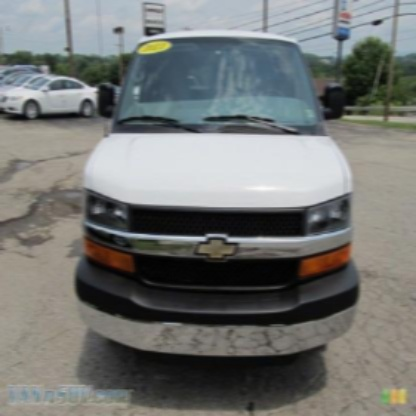Vehicle: (74, 30, 361, 372)
